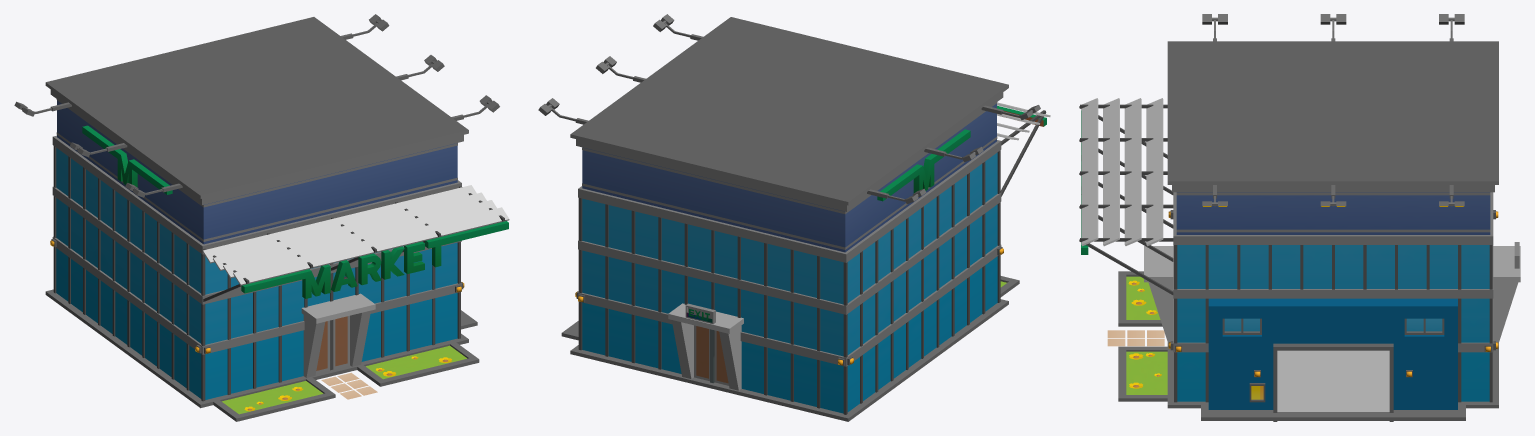
The picture shows the model from 3 angles, left to right: view 1: azimuth 30°, elevation 25°; view 2: azimuth 150°, elevation 25°; view 3: azimuth 270°, elevation 25°; orthographic projection. The views are drawn at different scales.
Visible parts, largest first — view 1: Logo_17D; view 2: Logo_17D; view 3: Logo_17D.
Part boxes in pixels (x1,y1,x2,y2): Logo_17D: (14,14,509,421); Logo_17D: (538,14,1050,421); Logo_17D: (1079,14,1520,421).
Bounding box in the file's own units: 30231 × 17585 × 29805.
